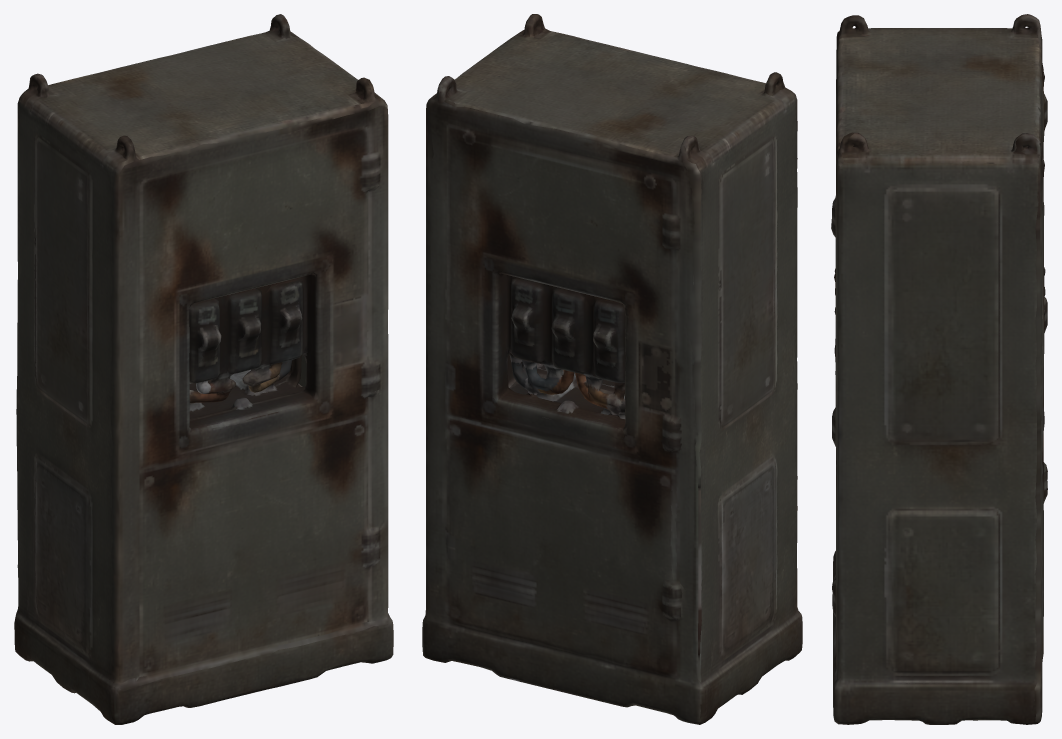
File: raw.glb
3 views of the same model, side by side, from view 1: azimuth 30°, elevation 25°; view 2: azimuth 150°, elevation 25°; view 3: azimuth 270°, elevation 25° (orthographic).
Bounding box in the file's own units: 0.5101 × 1 × 0.3362.
Materials: 1 (1 with a texture image).
